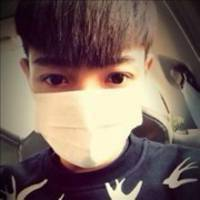face_mask: (28, 21, 144, 166)
